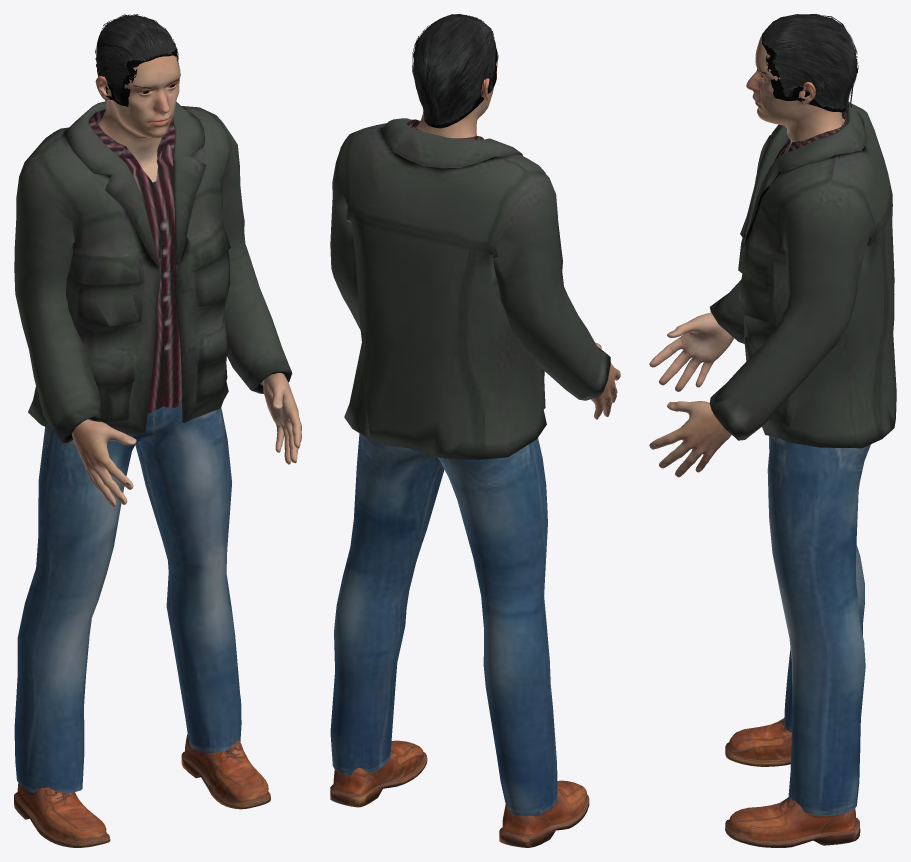
The model's file is chief-steward.glb.
The picture shows the model from 3 angles, left to right: view 1: azimuth 30°, elevation 25°; view 2: azimuth 150°, elevation 25°; view 3: azimuth 270°, elevation 25°; orthographic projection.
Visible parts, largest first — view 1: Human.male_casualsuit05.001, Human.shoes01.001, Human.001, Human.short04.001, Human.001-head; view 2: Human.male_casualsuit05.001, Human.short04.001, Human.shoes01.001, Human.001, Human.001-head; view 3: Human.male_casualsuit05.001, Human.short04.001, Human.001, Human.shoes01.001, Human.001-head.
Boxes of the visible parts, x1,y1,x2,y2 form: Human.male_casualsuit05.001: (14, 101, 292, 793); Human.shoes01.001: (14, 734, 270, 847); Human.001: (71, 115, 301, 507); Human.short04.001: (95, 14, 179, 106); Human.001-head: (95, 53, 180, 136); Human.male_casualsuit05.001: (330, 118, 610, 816); Human.short04.001: (412, 14, 497, 128); Human.shoes01.001: (330, 740, 589, 847); Human.001: (416, 121, 620, 419); Human.001-head: (413, 47, 498, 133); Human.male_casualsuit05.001: (709, 101, 896, 815); Human.short04.001: (762, 14, 858, 112); Human.001: (649, 115, 844, 477); Human.shoes01.001: (725, 718, 860, 847); Human.001-head: (746, 35, 841, 126).
Bounding box in the file's own units: 0.5615 × 1.8 × 0.5184.
6 materials, 6 textured.
